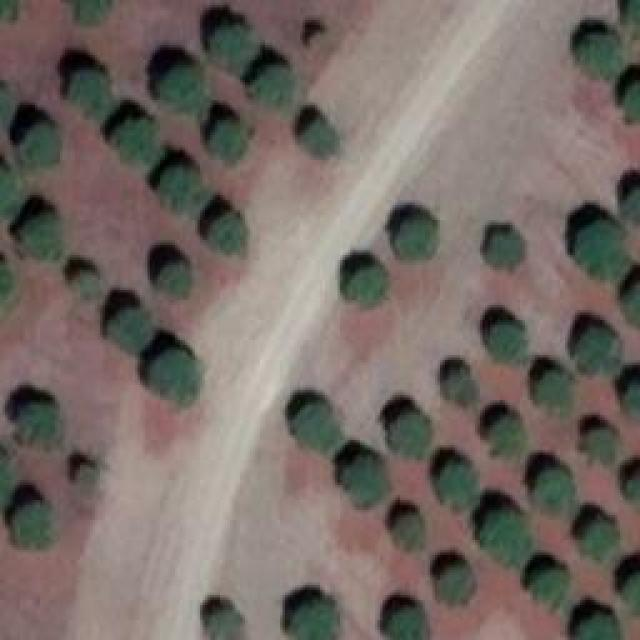Tree: (148, 353, 203, 406), (570, 223, 625, 276), (523, 465, 578, 518), (475, 513, 528, 563), (155, 63, 208, 113), (385, 408, 433, 461), (17, 403, 65, 453), (248, 65, 298, 113), (388, 215, 438, 263), (203, 23, 256, 68), (10, 498, 53, 553), (572, 32, 620, 80), (13, 218, 63, 263), (62, 70, 110, 115), (338, 455, 383, 503), (572, 325, 620, 370), (118, 117, 161, 165), (105, 308, 150, 353), (158, 165, 203, 210), (293, 403, 338, 448), (435, 463, 478, 508), (525, 568, 570, 611), (15, 123, 58, 168), (348, 260, 393, 303), (480, 415, 523, 460), (287, 600, 335, 640), (202, 215, 250, 255), (483, 228, 526, 271), (567, 610, 625, 640), (528, 370, 573, 408), (385, 605, 433, 640), (210, 120, 250, 160), (155, 260, 193, 300), (295, 120, 335, 158), (438, 565, 473, 605), (578, 428, 618, 463), (485, 323, 523, 358), (207, 607, 247, 640), (393, 513, 426, 553), (578, 515, 613, 550), (72, 462, 100, 500), (620, 568, 640, 621), (443, 365, 473, 400), (65, 0, 110, 20), (68, 273, 101, 298), (622, 280, 640, 323), (622, 185, 640, 228), (0, 450, 15, 498), (622, 470, 640, 510), (622, 0, 640, 38), (625, 378, 640, 423), (0, 0, 22, 27), (0, 85, 15, 118)
